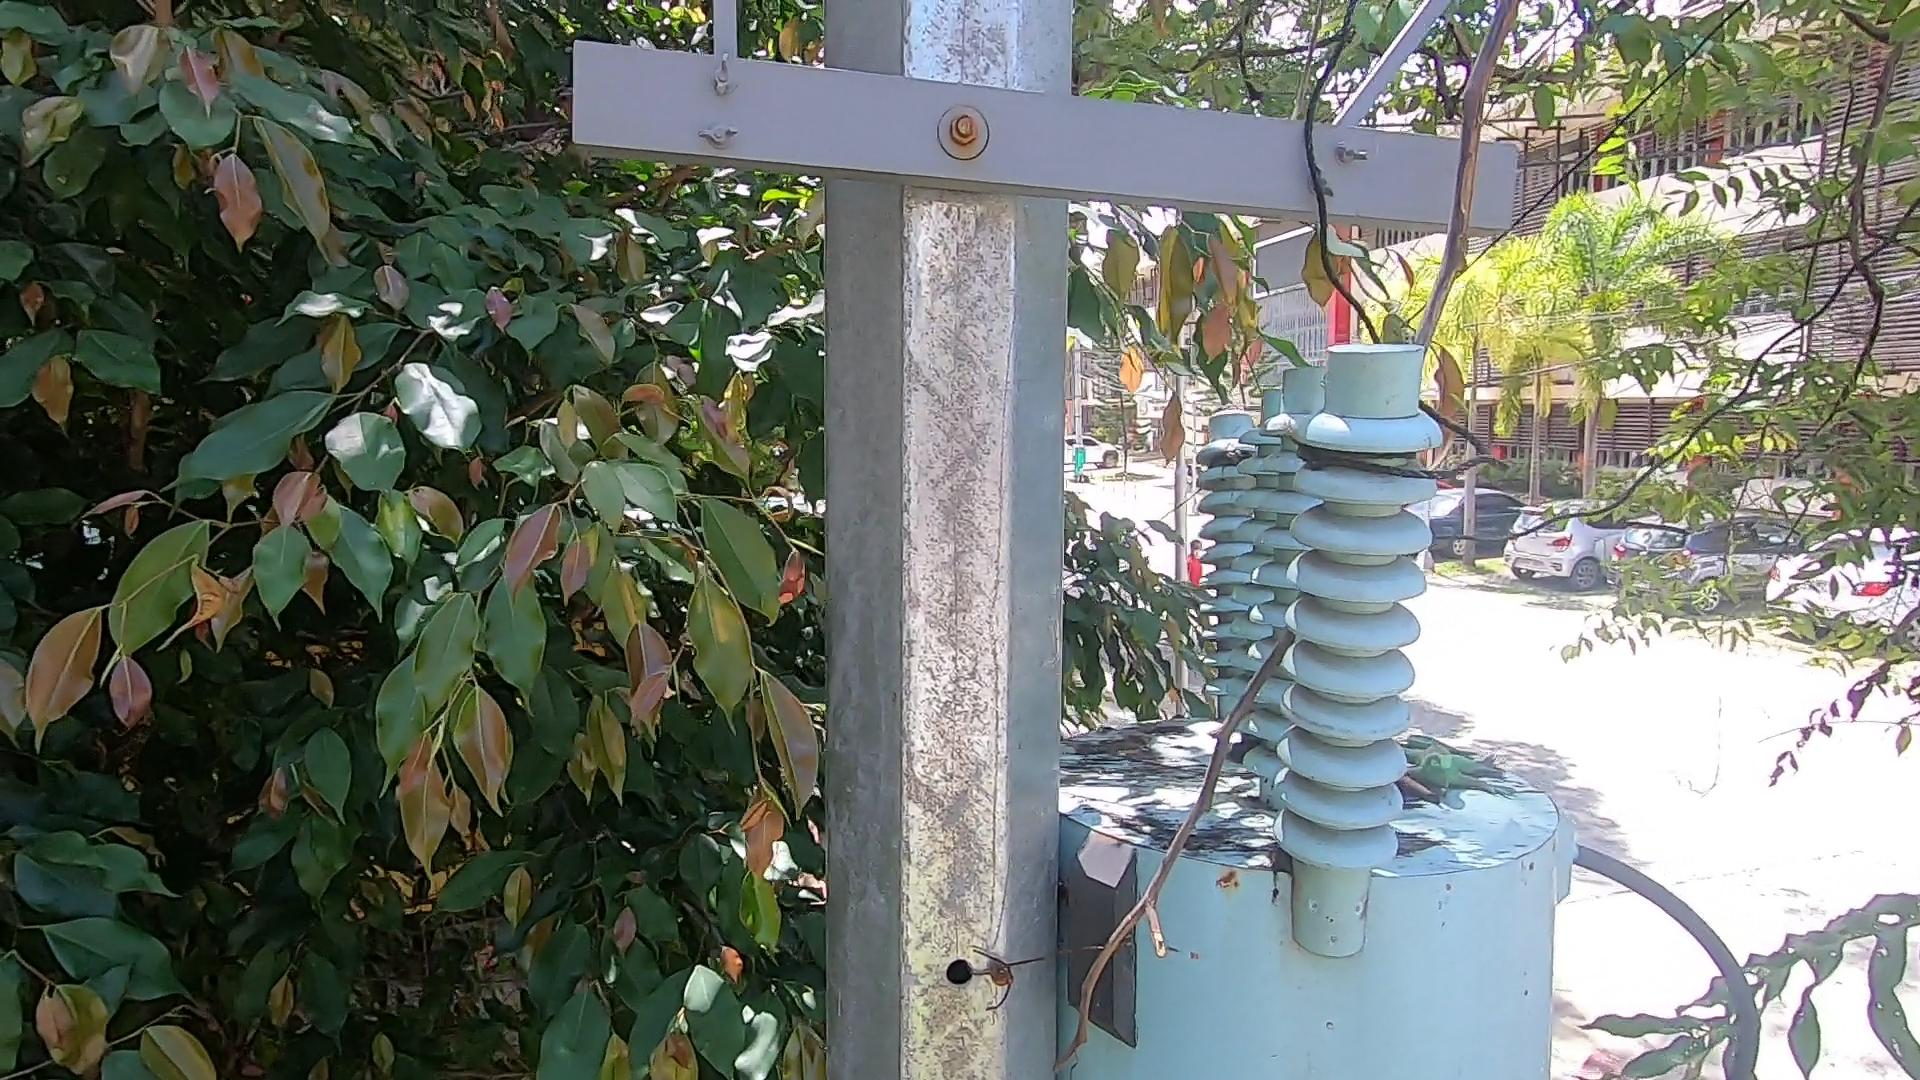leaf: (1408, 752, 1486, 802), (1095, 731, 1167, 773), (1261, 835, 1302, 893)
tree branch: (1047, 15, 1610, 1068)
